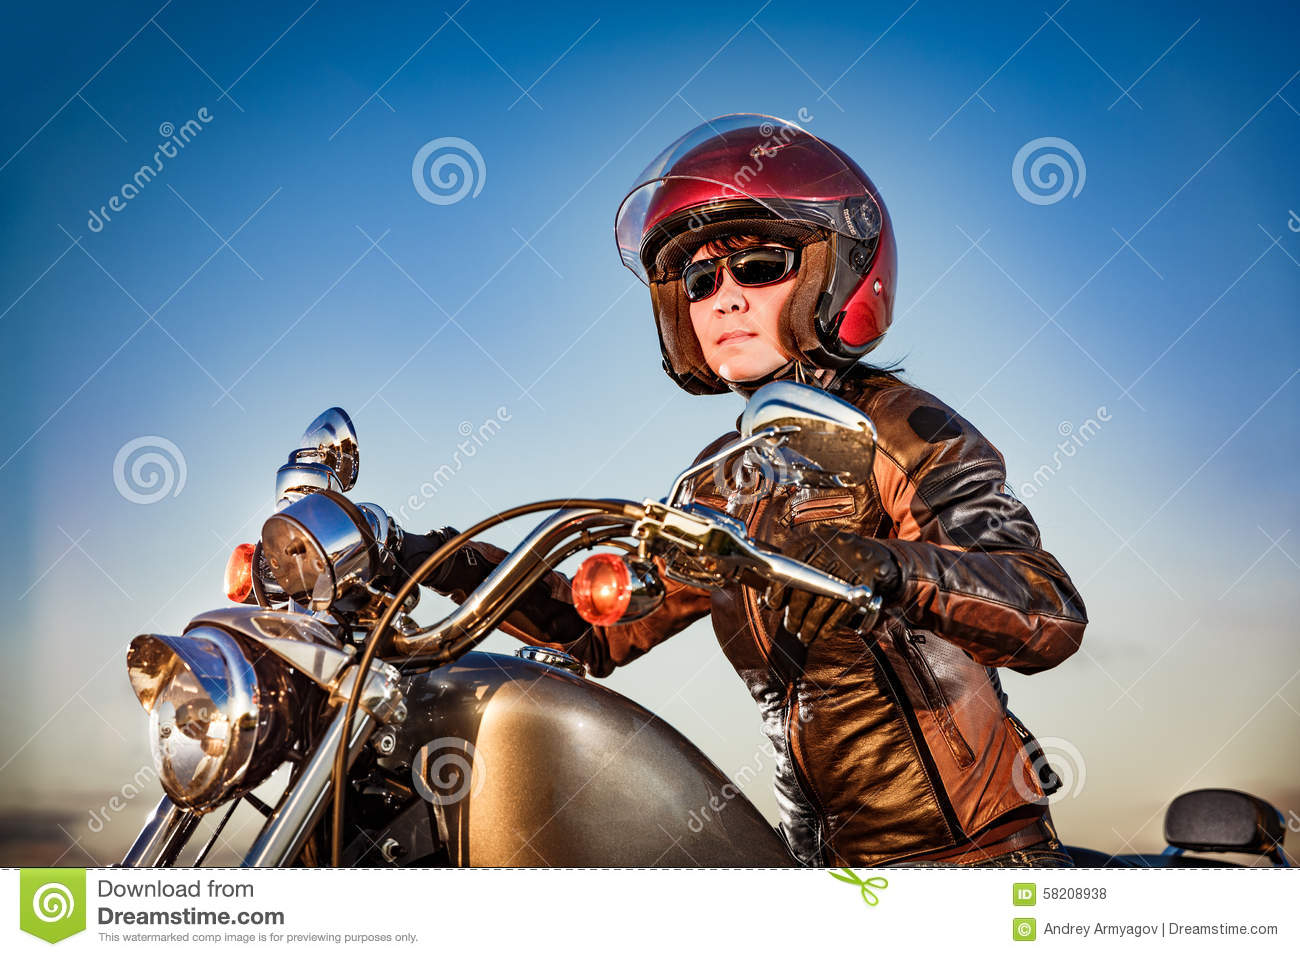helmet: (621, 141, 890, 369)
